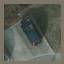car: (19, 19, 44, 48)
